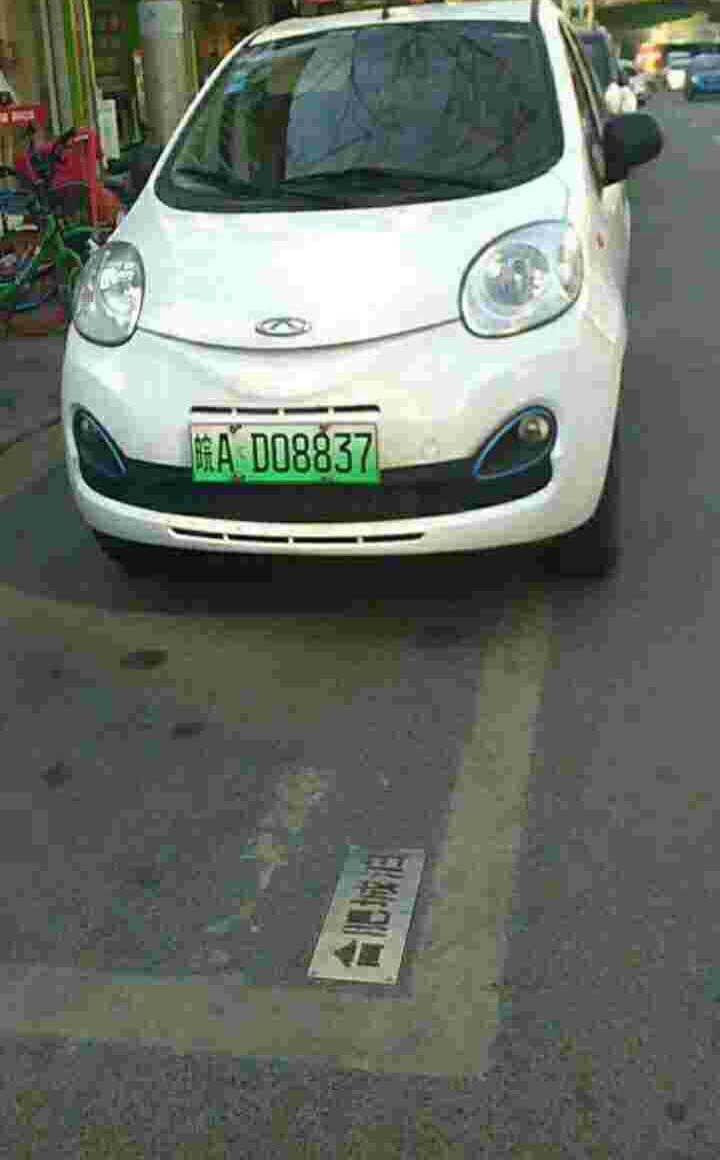car_green: (191, 423, 382, 492)
